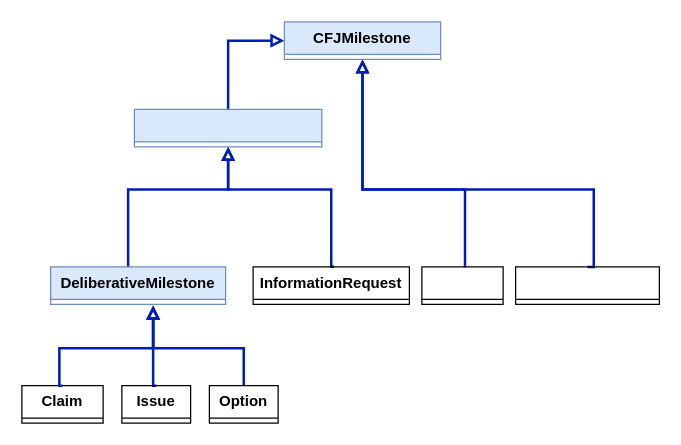
Some shapes in this 681 by 445 pixel diagram are drawn without their labels. Each missing label, with the centre of its shape:
ExpressedPosition: the point at 586,285
MilestoneWithState: the point at 227,127
Outcome: the point at 462,285
